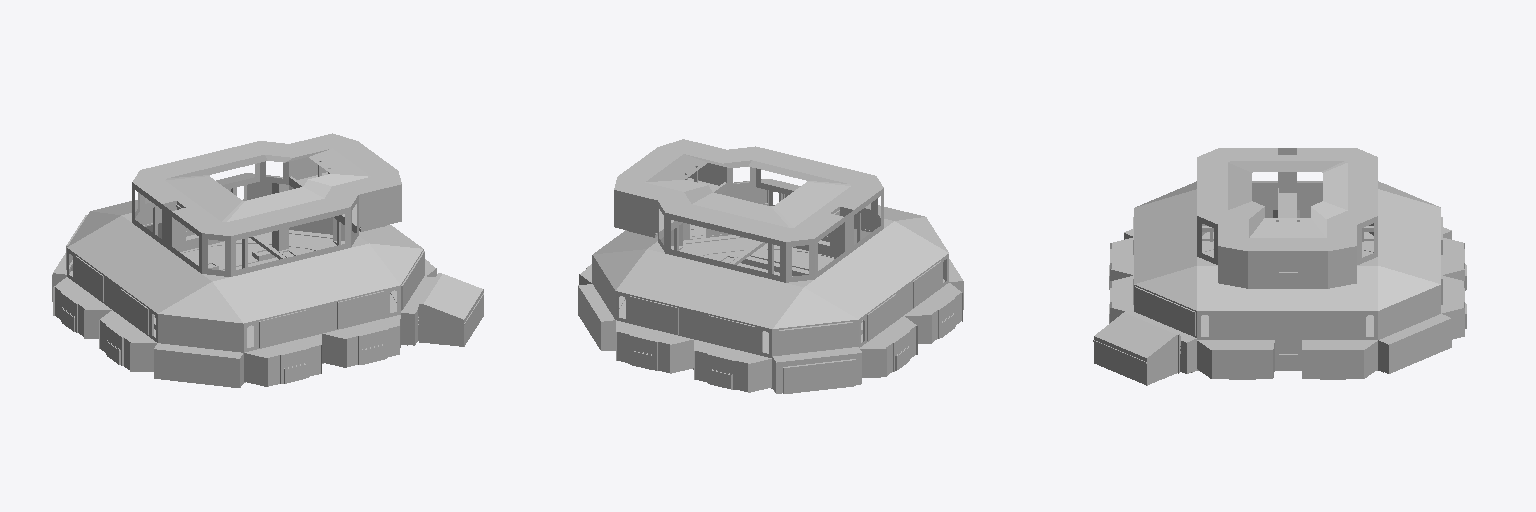
The model's file is home.obj.
The picture shows the model from 3 angles: view 1: azimuth 30°, elevation 25°; view 2: azimuth 150°, elevation 25°; view 3: azimuth 270°, elevation 25°; orthographic projection.
Visible parts, largest first — view 1: Mesh1 Model; view 2: Mesh1 Model; view 3: Mesh1 Model.
Boxes of the visible parts, x1,y1,x2,y2 form: Mesh1 Model: [52, 133, 483, 387]; Mesh1 Model: [578, 139, 963, 393]; Mesh1 Model: [1093, 148, 1466, 385].
Size of the model in its own units: 64.38 by 27.11 by 64.38.